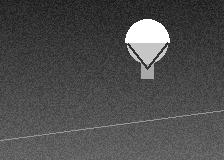helmet: (125, 19, 169, 68)
